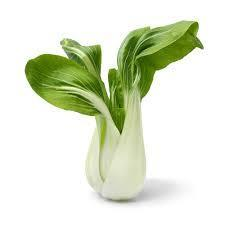Healthy-Pechay: (23, 19, 225, 195)
